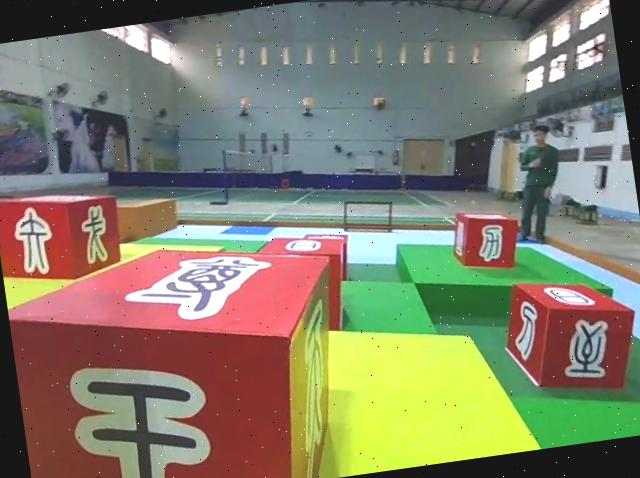R2 Fake: (1, 222, 360, 478), (494, 263, 640, 407), (0, 180, 127, 289), (445, 201, 524, 278)
